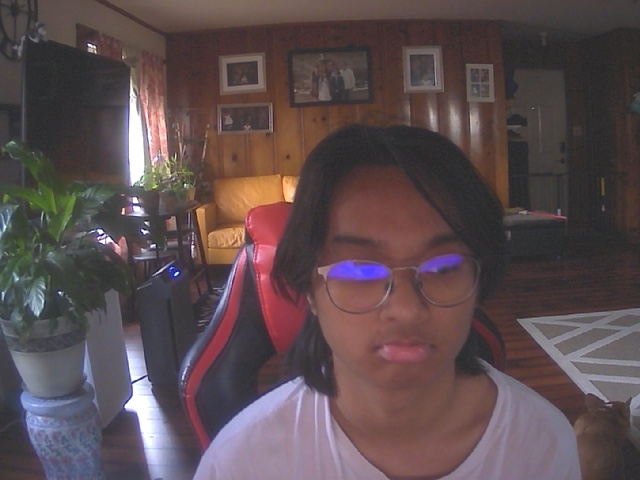sad: (298, 140, 494, 396)
